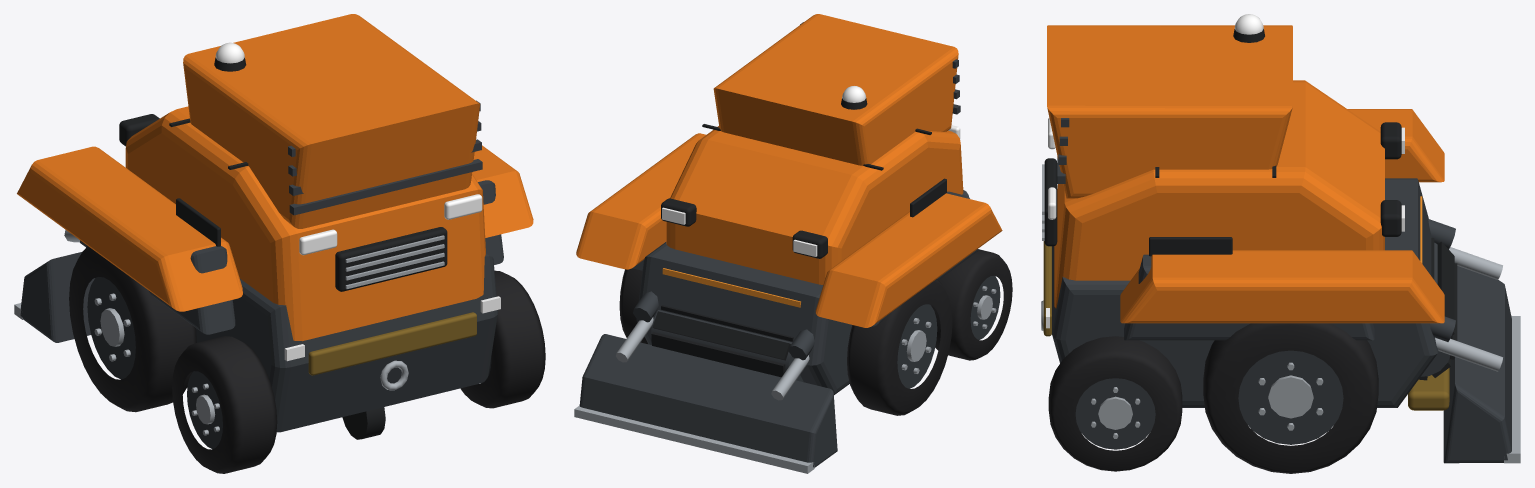
File: Machine_collector_T2.glb
3 renders of one model, left to right at view 1: azimuth 30°, elevation 25°; view 2: azimuth 150°, elevation 25°; view 3: azimuth 270°, elevation 25°, orthographic. The views are drawn at different scales.
Parts seen in each view (by area): view 1: Tier2_Parts_MAT_Player_Shell_18, Body_Shell_0, Tier1_Parts_MAT_Player_Gunmetal_9, Axle_Rear_MAT_tread_14, Axle_Front_MAT_tread_6, Tier2_Parts_MAT_Player_Gunmetal_19, Tier1_Parts_MAT_darkTrim_10, Tier1_Parts_MAT_Player_Hazard_12, Axle_Front_MAT_Player_Gunmetal_7, Tier1_Parts_MAT_steel_11, Tier1_Parts_MAT_lamps_13, Axle_Rear_MAT_Player_Gunmetal_15 (+2 smaller); view 2: Tier2_Parts_MAT_Player_Shell_18, Body_Shell_0, Tier2_Parts_MAT_Player_Gunmetal_19, Tier1_Parts_MAT_Player_Gunmetal_9, Axle_Front_MAT_tread_6, Intake_Roller_MAT_darkTrim_2, Axle_Rear_MAT_tread_14, Tier2_Parts_MAT_steel_21, Tier1_Parts_MAT_darkTrim_10, Axle_Front_MAT_Player_Gunmetal_7, Roller_Core_1, Axle_Rear_MAT_Player_Gunmetal_15 (+4 smaller); view 3: Tier2_Parts_MAT_Player_Shell_18, Body_Shell_0, Tier1_Parts_MAT_Player_Gunmetal_9, Axle_Front_MAT_tread_6, Tier2_Parts_MAT_Player_Gunmetal_19, Axle_Rear_MAT_tread_14, Axle_Front_MAT_Player_Gunmetal_7, Tier1_Parts_MAT_darkTrim_10, Axle_Rear_MAT_Player_Gunmetal_15, Tier2_Parts_MAT_steel_21, Tier1_Parts_MAT_Player_Hazard_12, Axle_Front_MAT_steel_8 (+4 smaller).
Boxes of the visible parts, bbox=[...] form: Tier2_Parts_MAT_Player_Shell_18: bbox=[17, 14, 533, 311]; Body_Shell_0: bbox=[125, 106, 485, 341]; Tier1_Parts_MAT_Player_Gunmetal_9: bbox=[80, 180, 503, 432]; Axle_Rear_MAT_tread_14: bbox=[172, 270, 545, 473]; Axle_Front_MAT_tread_6: bbox=[69, 246, 196, 412]; Tier2_Parts_MAT_Player_Gunmetal_19: bbox=[20, 100, 482, 342]; Tier1_Parts_MAT_darkTrim_10: bbox=[119, 114, 447, 439]; Tier1_Parts_MAT_Player_Hazard_12: bbox=[308, 312, 476, 375]; Axle_Front_MAT_Player_Gunmetal_7: bbox=[87, 277, 135, 379]; Tier1_Parts_MAT_steel_11: bbox=[345, 235, 444, 390]; Tier1_Parts_MAT_lamps_13: bbox=[284, 194, 500, 361]; Axle_Rear_MAT_Player_Gunmetal_15: bbox=[187, 358, 491, 448]; Tier2_Parts_MAT_Player_Shell_18: bbox=[576, 14, 1002, 327]; Body_Shell_0: bbox=[666, 126, 963, 284]; Tier2_Parts_MAT_Player_Gunmetal_19: bbox=[579, 22, 960, 467]; Tier1_Parts_MAT_Player_Gunmetal_9: bbox=[632, 190, 977, 394]; Axle_Front_MAT_tread_6: bbox=[619, 268, 952, 415]; Intake_Roller_MAT_darkTrim_2: bbox=[651, 305, 793, 377]; Axle_Rear_MAT_tread_14: bbox=[931, 249, 1012, 360]; Tier2_Parts_MAT_steel_21: bbox=[574, 317, 814, 473]; Tier1_Parts_MAT_darkTrim_10: bbox=[661, 124, 946, 258]; Axle_Front_MAT_Player_Gunmetal_7: bbox=[897, 304, 937, 388]; Roller_Core_1: bbox=[650, 310, 803, 381]; Axle_Rear_MAT_Player_Gunmetal_15: bbox=[970, 275, 1000, 339]; Tier2_Parts_MAT_Player_Shell_18: bbox=[1047, 25, 1444, 323]; Body_Shell_0: bbox=[1054, 80, 1384, 308]; Tier1_Parts_MAT_Player_Gunmetal_9: bbox=[1052, 178, 1438, 407]; Axle_Front_MAT_tread_6: bbox=[1203, 323, 1378, 473]; Tier2_Parts_MAT_Player_Gunmetal_19: bbox=[1057, 118, 1511, 463]; Axle_Rear_MAT_tread_14: bbox=[1048, 336, 1182, 471]; Axle_Front_MAT_Player_Gunmetal_7: bbox=[1238, 350, 1343, 444]; Tier1_Parts_MAT_darkTrim_10: bbox=[1044, 122, 1401, 256]; Axle_Rear_MAT_Player_Gunmetal_15: bbox=[1075, 378, 1155, 449]; Tier2_Parts_MAT_steel_21: bbox=[1435, 247, 1520, 463]; Tier1_Parts_MAT_Player_Hazard_12: bbox=[1043, 241, 1449, 410]; Axle_Front_MAT_steel_8: bbox=[1258, 362, 1323, 430].
Bounding box in the file's own units: 1 × 0.935 × 1.15.
